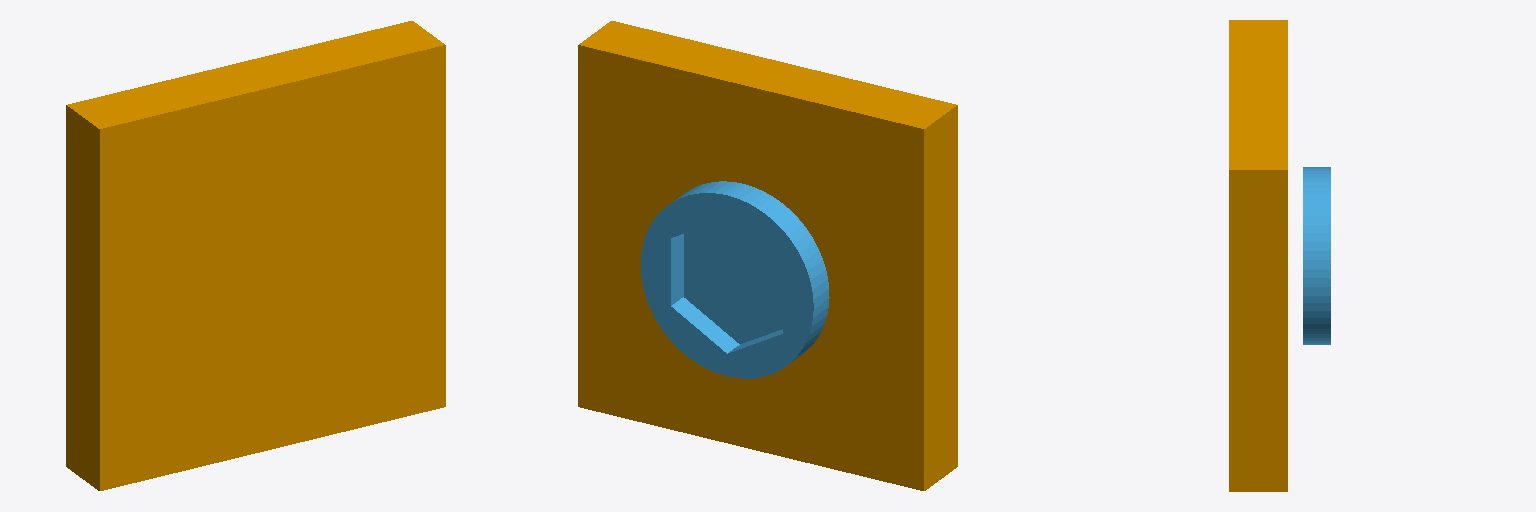
URDF robot description (hex_screw_base):
<?xml version="1.0"?>
<robot name="hex_screw_base">

  <link name="base">
    <visual>
      <origin xyz="0 0.01 0" rpy="0 0 0"/>
      <geometry>
        <box size="0.12 0.02 0.12"/>
      </geometry>
    </visual>	
    <collision>
      <origin xyz="0 0.01 0" rpy="0 0 0"/>
      <geometry>
        <box size="0.12 0.02 0.12"/>
      </geometry>
    </collision>
  </link>

  <link name="screw">
    <visual>
      <origin xyz="0 0 0" rpy="0 0 0"/>
      <geometry>
        <mesh filename="hex_screw/screw_head.obj" scale="0.001500 0.001500 0.001500"/>
      </geometry>
    </visual>	
    <collision>
      <origin xyz="0 0 0" rpy="0 0 0"/>
      <geometry>
        <mesh filename="hex_screw/screw_head.obj" scale="0.001500 0.001500 0.001500"/>
      </geometry>
    </collision>
  </link>

  <joint name="screw_to_base" type="revolute">
    <parent link="base"/>
    <child link="screw"/>
    <origin xyz="0 0.025 0"/>
    <axis xyz="0 1 0"/>
    <limit lower="-3.14" upper="3.14" effort="100" velocity="3"/>
  </joint>

</robot>

--- Facts derived from the render (not from the file) ---
3 views of the same robot in one strip: view 1: azimuth 30°, elevation 25°; view 2: azimuth 150°, elevation 25°; view 3: azimuth 270°, elevation 25° (orthographic).
Model hex_screw_base with 2 links and 1 joints (1 revolute), rooted at base, posed all joints at 0.
Links seen in each view (by area): view 1: base; view 2: base, screw; view 3: base, screw.
Link boxes in pixels (x1,y1,x2,y2): base: (66, 21, 445, 490); base: (578, 21, 957, 490); screw: (641, 181, 829, 378); base: (1229, 20, 1287, 491); screw: (1303, 167, 1330, 344).
Bounding box of the posed robot: 0.12 × 0.0345 × 0.12 m (x, y, z).
Meshes: 1 distinct files referenced, 1 mesh visuals loaded (1 OBJ).